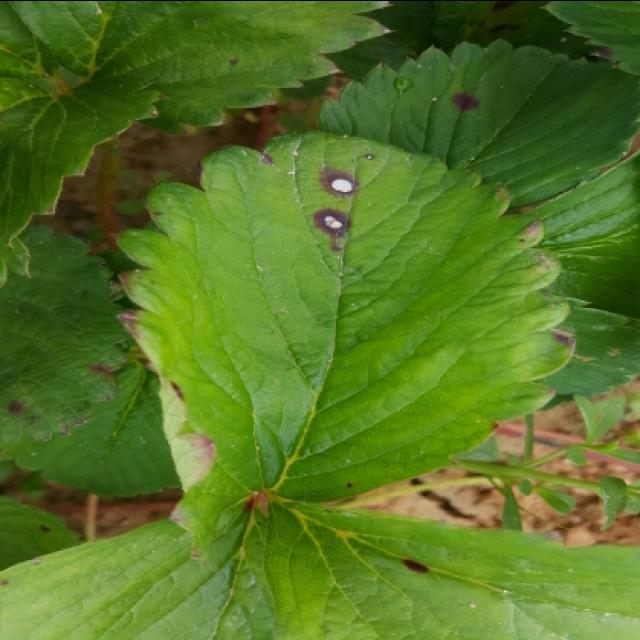Leaf Spot: (111, 129, 577, 504), (239, 490, 638, 640), (319, 35, 638, 213), (6, 2, 396, 139), (0, 514, 280, 640), (0, 220, 133, 443), (541, 2, 638, 75), (0, 490, 84, 567)
